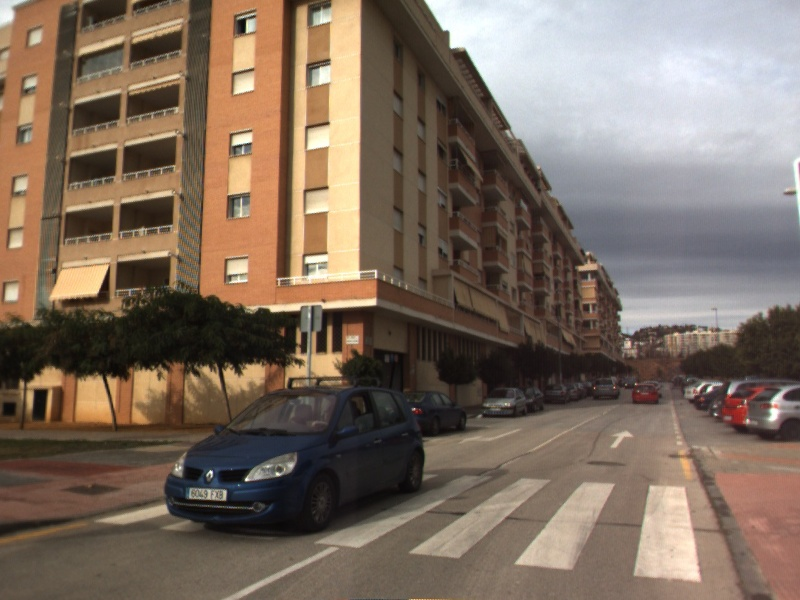STRAIGHT: (608, 428, 636, 450)
